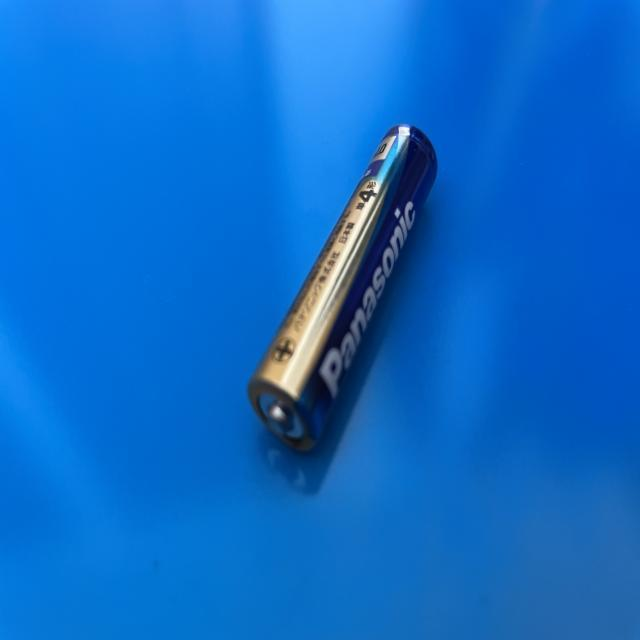AAA: (246, 120, 438, 458)
